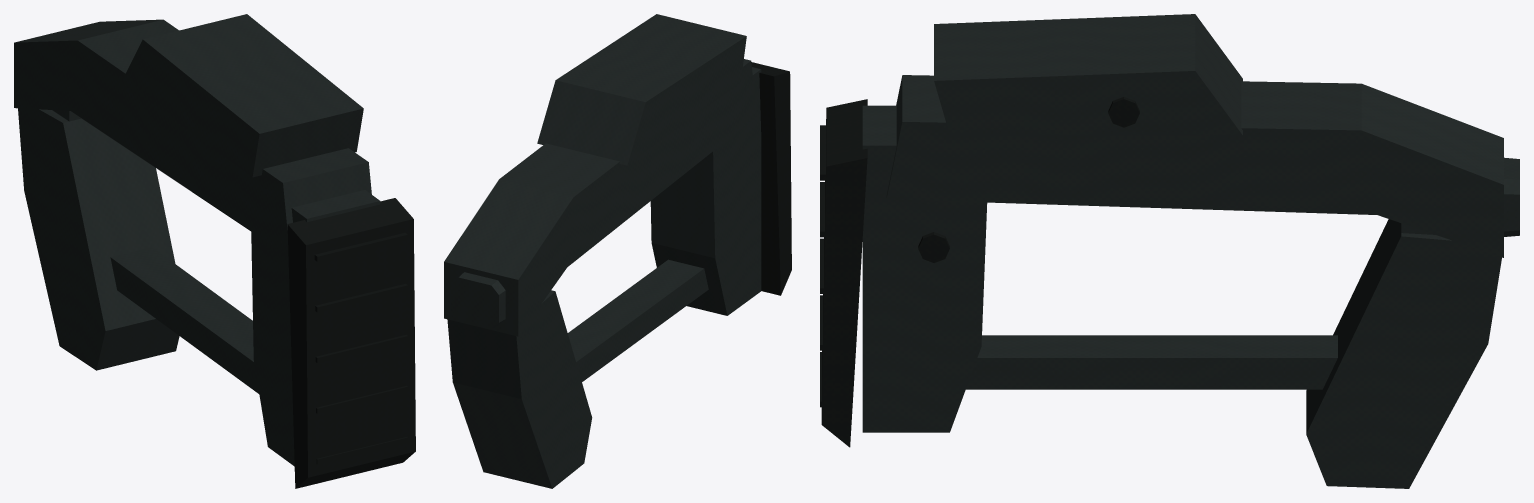
File: vss_poly.glb
3 views of the same model, side by side, from view 1: azimuth 30°, elevation 25°; view 2: azimuth 150°, elevation 25°; view 3: azimuth 270°, elevation 25° (orthographic). The views are drawn at different scales.
Parts seen in each view (by area): view 1: stock__vss_poly_LOD0_RAID_Secondary_Original_polymer, stock__vss_poly_LOD1_RAID_Secondary_Original_polymer, stock__vss_poly_LOD1_RAID_Secondary_Original_rubber, stock__vss_poly_LOD0_RAID_Secondary_Original_rubber; view 2: stock__vss_poly_LOD0_RAID_Secondary_Original_polymer, stock__vss_poly_LOD1_RAID_Secondary_Original_polymer, stock__vss_poly_LOD0_RAID_Secondary_Original_rubber, stock__vss_poly_LOD1_RAID_Secondary_Original_rubber; view 3: stock__vss_poly_LOD0_RAID_Secondary_Original_polymer, stock__vss_poly_LOD1_RAID_Secondary_Original_polymer, stock__vss_poly_LOD0_RAID_Secondary_Original_rubber, stock__vss_poly_LOD1_RAID_Secondary_Original_rubber.
Boxes of the visible parts, bbox=[...] form: stock__vss_poly_LOD0_RAID_Secondary_Original_polymer: bbox=[15, 16, 378, 463]; stock__vss_poly_LOD1_RAID_Secondary_Original_polymer: bbox=[14, 14, 380, 466]; stock__vss_poly_LOD1_RAID_Secondary_Original_rubber: bbox=[287, 198, 415, 488]; stock__vss_poly_LOD0_RAID_Secondary_Original_rubber: bbox=[288, 199, 413, 485]; stock__vss_poly_LOD0_RAID_Secondary_Original_polymer: bbox=[446, 15, 760, 486]; stock__vss_poly_LOD1_RAID_Secondary_Original_polymer: bbox=[444, 14, 761, 488]; stock__vss_poly_LOD0_RAID_Secondary_Original_rubber: bbox=[751, 62, 790, 293]; stock__vss_poly_LOD1_RAID_Secondary_Original_rubber: bbox=[751, 62, 791, 295]; stock__vss_poly_LOD0_RAID_Secondary_Original_polymer: bbox=[864, 15, 1519, 485]; stock__vss_poly_LOD1_RAID_Secondary_Original_polymer: bbox=[862, 14, 1503, 488]; stock__vss_poly_LOD0_RAID_Secondary_Original_rubber: bbox=[820, 97, 1139, 443]; stock__vss_poly_LOD1_RAID_Secondary_Original_rubber: bbox=[821, 99, 867, 447].
Bounding box in the file's own units: 0.09 × 0.296 × 0.442.
Materials: 2 (2 with a texture image).
